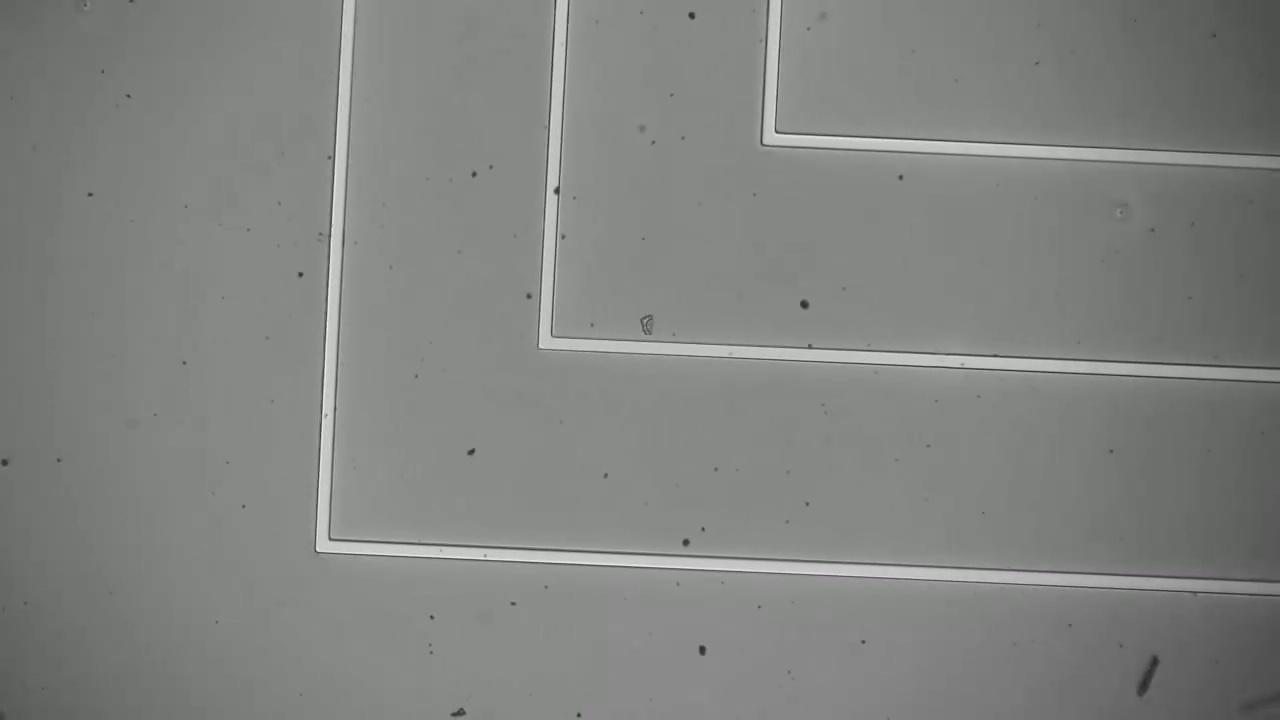stains_enbedded: (544, 180, 563, 202)
